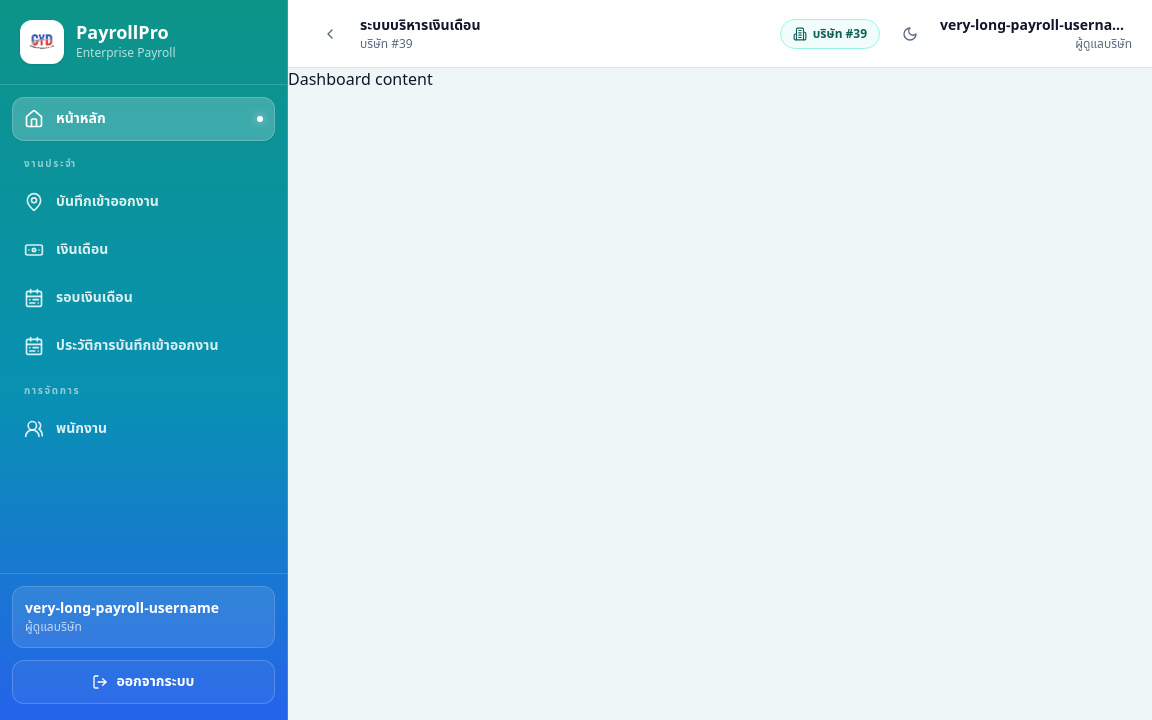
it: responsive application layout › supports desktop sidebar collapse without hiding accessible names
Click the button named "ย่อแถบเมนู": (330, 34) [308, 12, 352, 56]
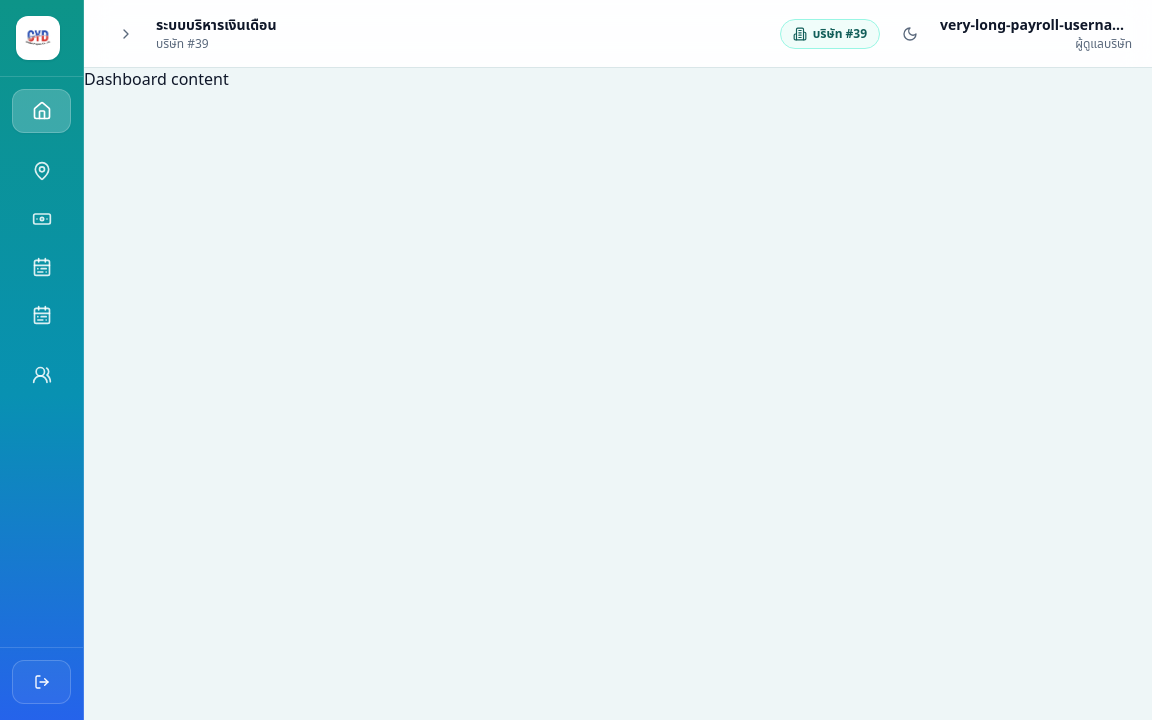
Expected: the link titled "เงินเดือน" is shown, [32, 209, 52, 229]
Now the button named "ขยายแถบเมนู" is shown, box [104, 12, 148, 56]
